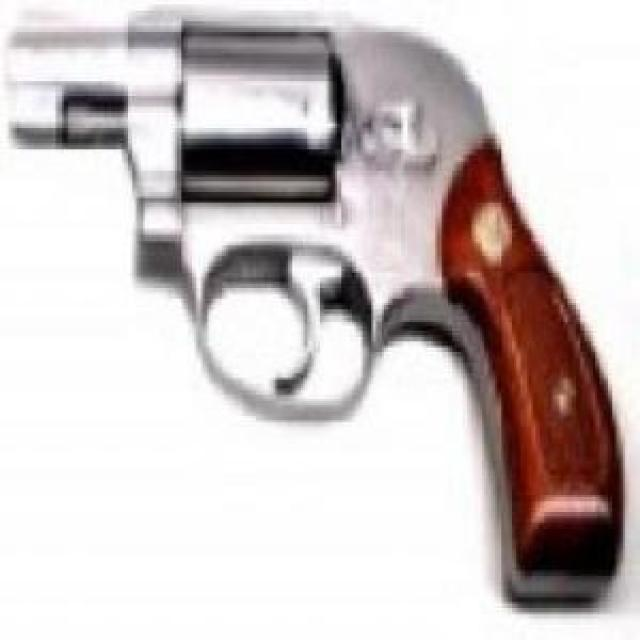pistol: (17, 7, 625, 614)
